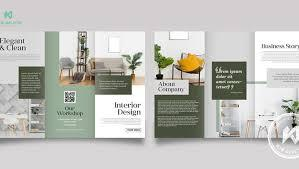paper: (0, 31, 299, 142)
